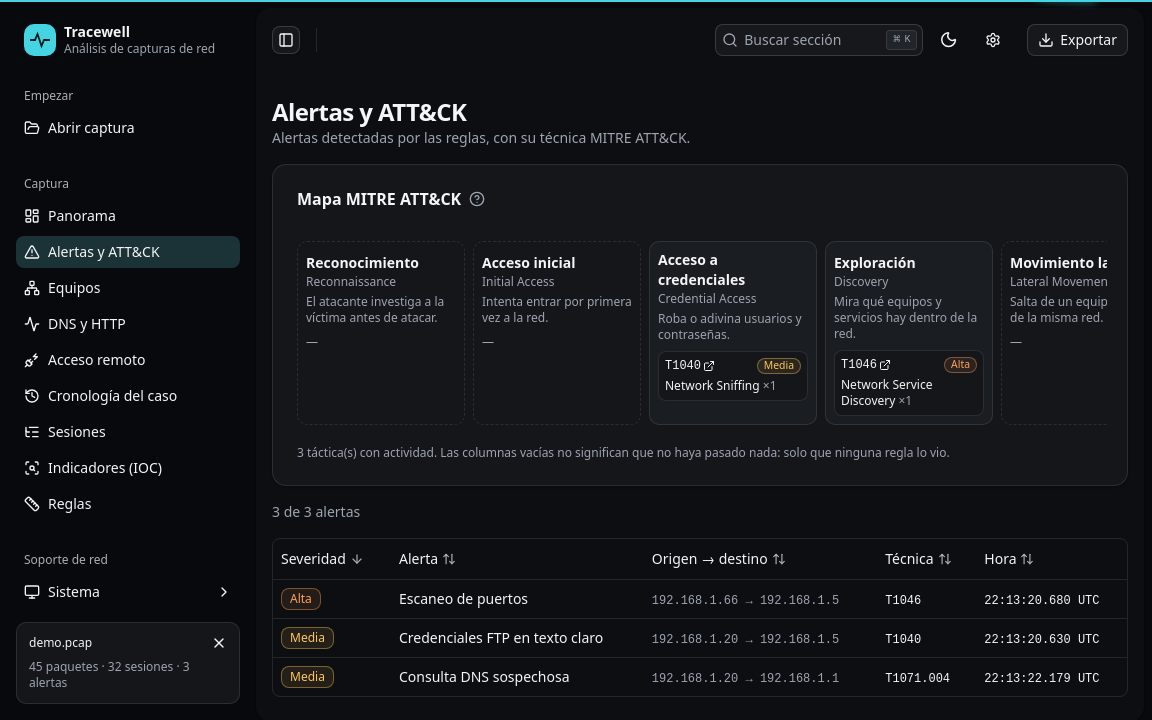
Test case: marco de la aplicación › cerrar la captura pide confirmación y vuelve al inicio sin captura
This screenshot has width=1152, height=720.
Click the button named "Cerrar captura" at (219,643), box [207, 631, 231, 655]
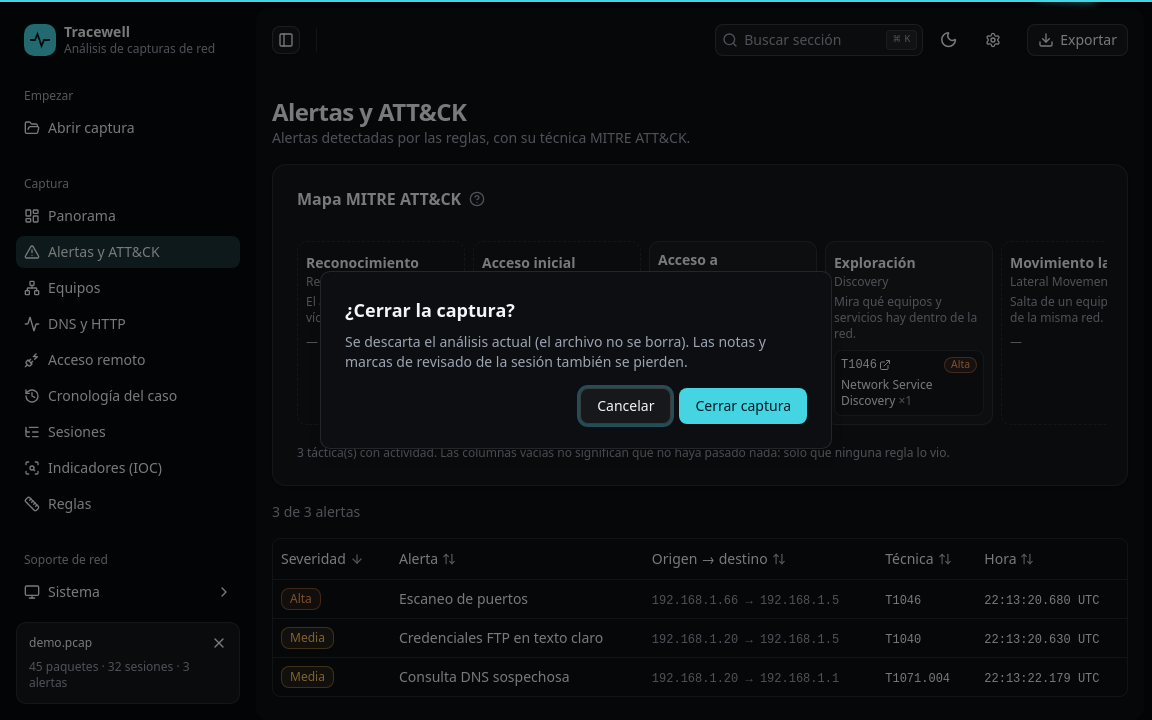
Click the button "Cerrar captura" at (743,406), box [679, 388, 807, 424]
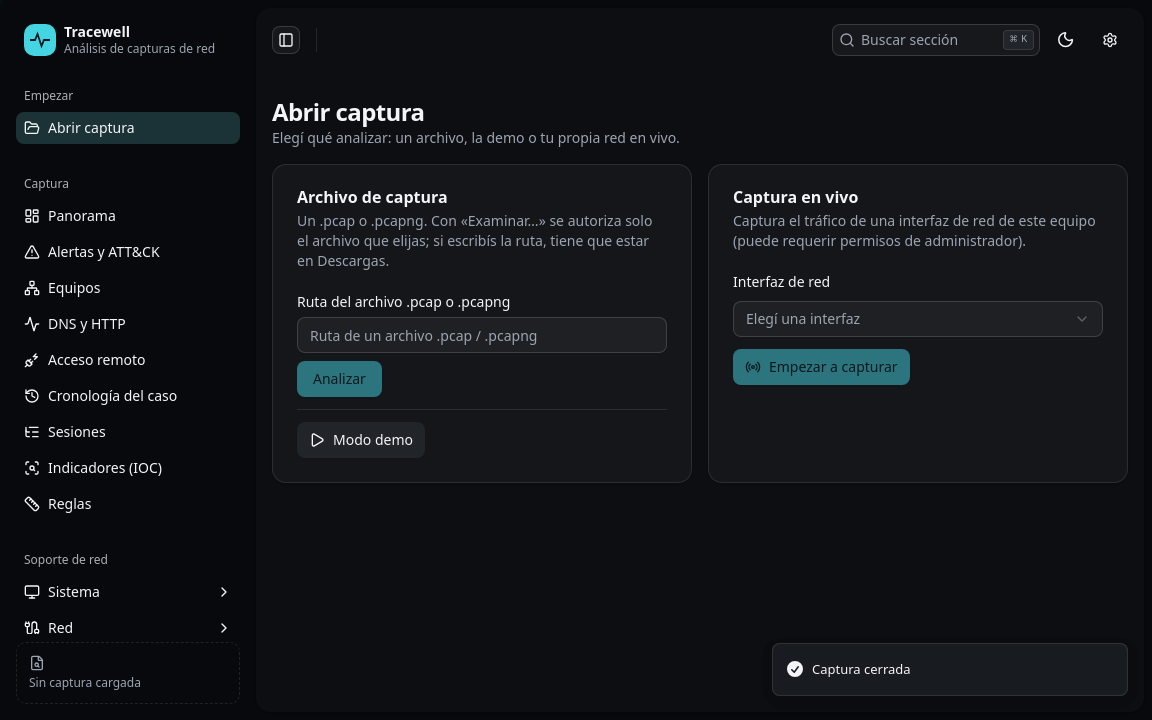
Check: the text "Sin captura cargada" is shown, box [16, 642, 240, 704]
